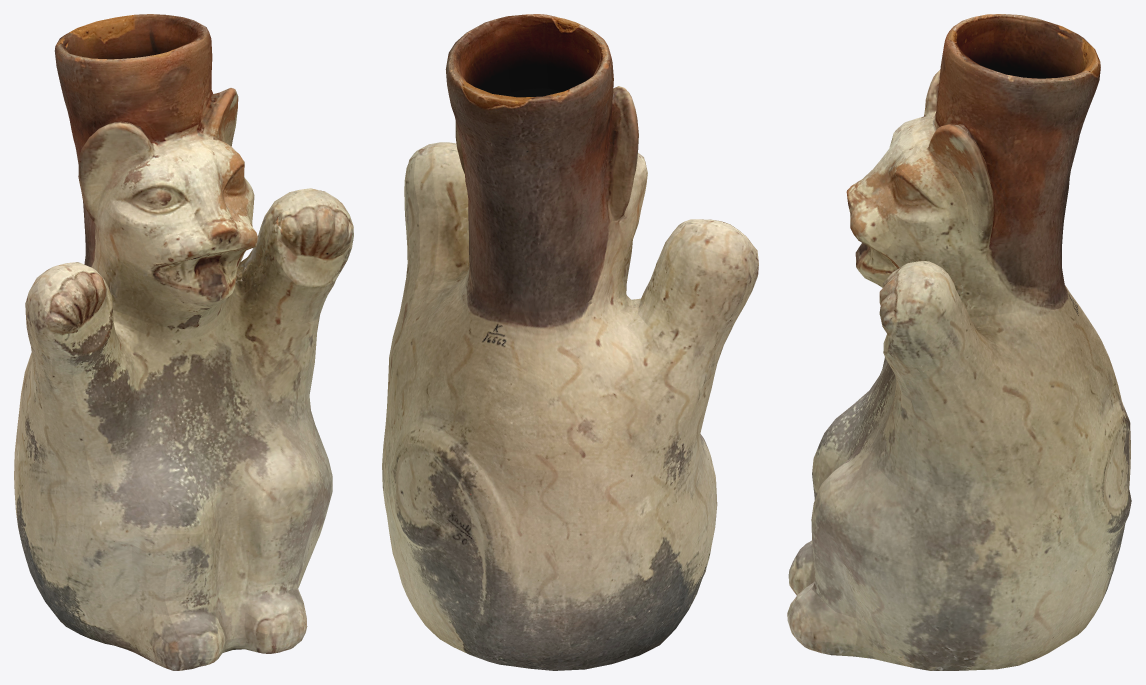
File: objeto_06_-_pieza_unica.glb
3 renders of one model, left to right at view 1: azimuth 30°, elevation 25°; view 2: azimuth 150°, elevation 25°; view 3: azimuth 270°, elevation 25°, orthographic. The views are drawn at different scales.
Parts seen in each view (by area): view 1: Box001_02 - Default_0; view 2: Box001_02 - Default_0; view 3: Box001_02 - Default_0.
Boxes of the visible parts, x1,y1,x2,y2 form: Box001_02 - Default_0: (14, 14, 353, 670); Box001_02 - Default_0: (382, 14, 758, 670); Box001_02 - Default_0: (787, 14, 1131, 670).
Bounding box in the file's own units: 56.17 × 93.81 × 50.3.
Materials: 1 (1 with a texture image).
